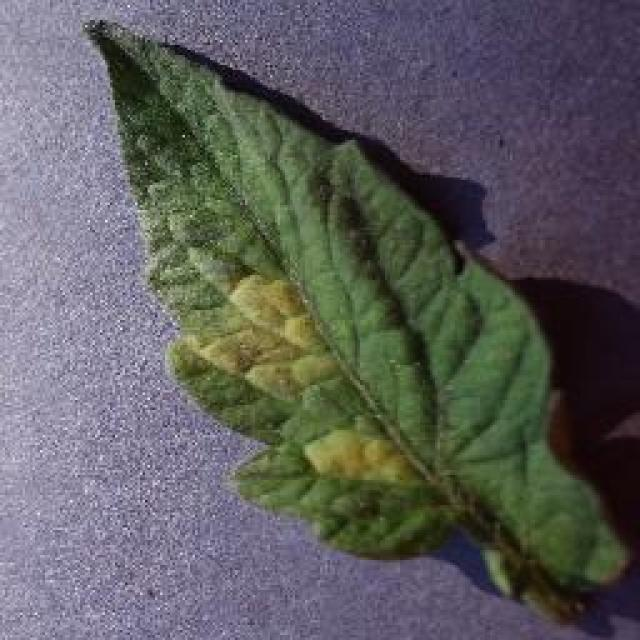Tomato___Leaf_Mold: (88, 22, 628, 620)
